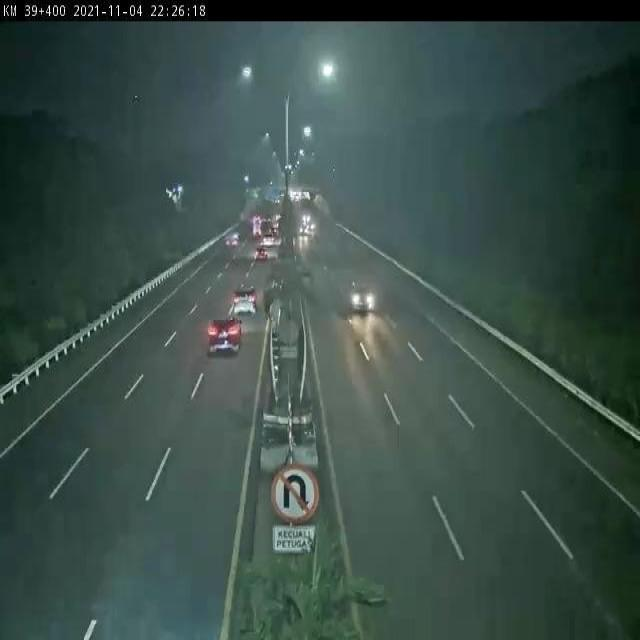Car: (205, 312, 244, 356), (351, 287, 383, 316), (234, 288, 258, 321), (251, 246, 268, 266), (223, 233, 241, 249), (261, 235, 274, 247), (298, 227, 307, 238), (304, 224, 316, 232), (303, 214, 313, 218)
Truck: (252, 214, 262, 240)
